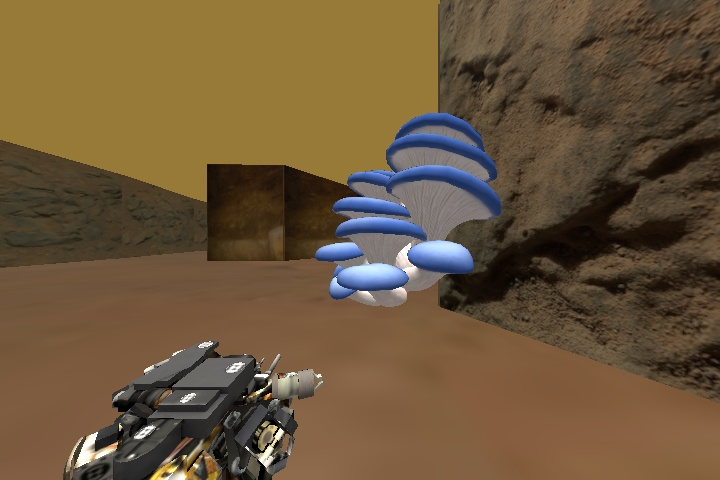mushroom: (318, 112, 504, 308)
